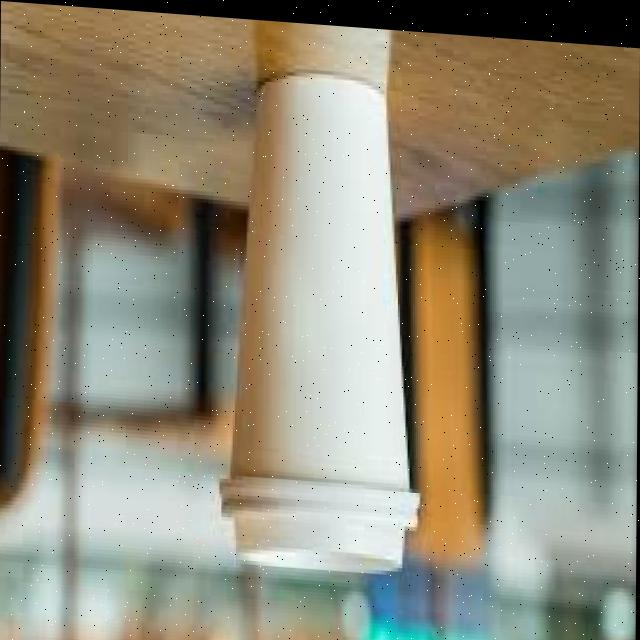cup: (200, 27, 437, 615)
